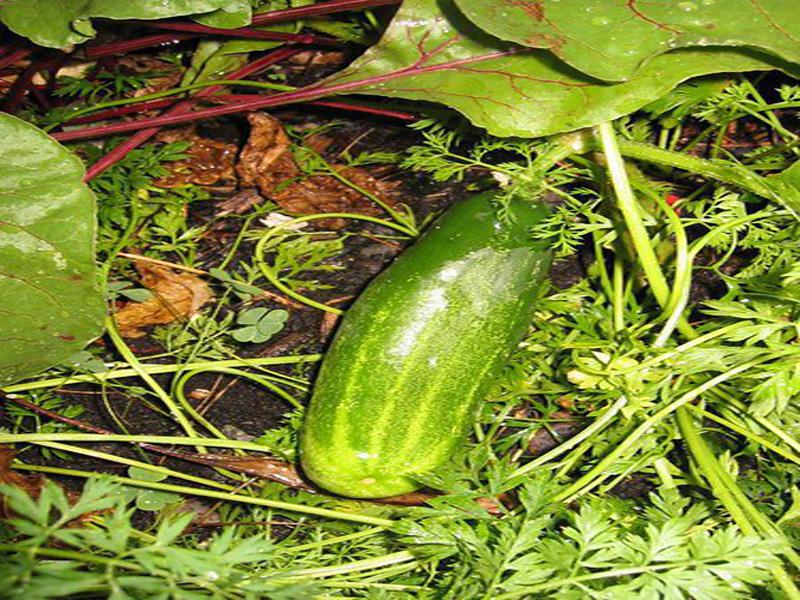Cucumber: (297, 188, 565, 493)
